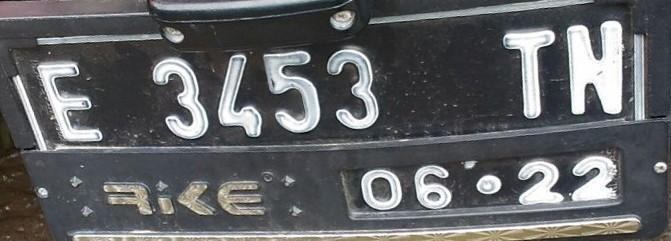3: (140, 56, 214, 142), (316, 46, 385, 134)
4: (211, 50, 270, 142)
5: (255, 48, 328, 137)
E: (30, 66, 118, 146)
T: (493, 23, 565, 120)
W: (552, 17, 632, 121)
